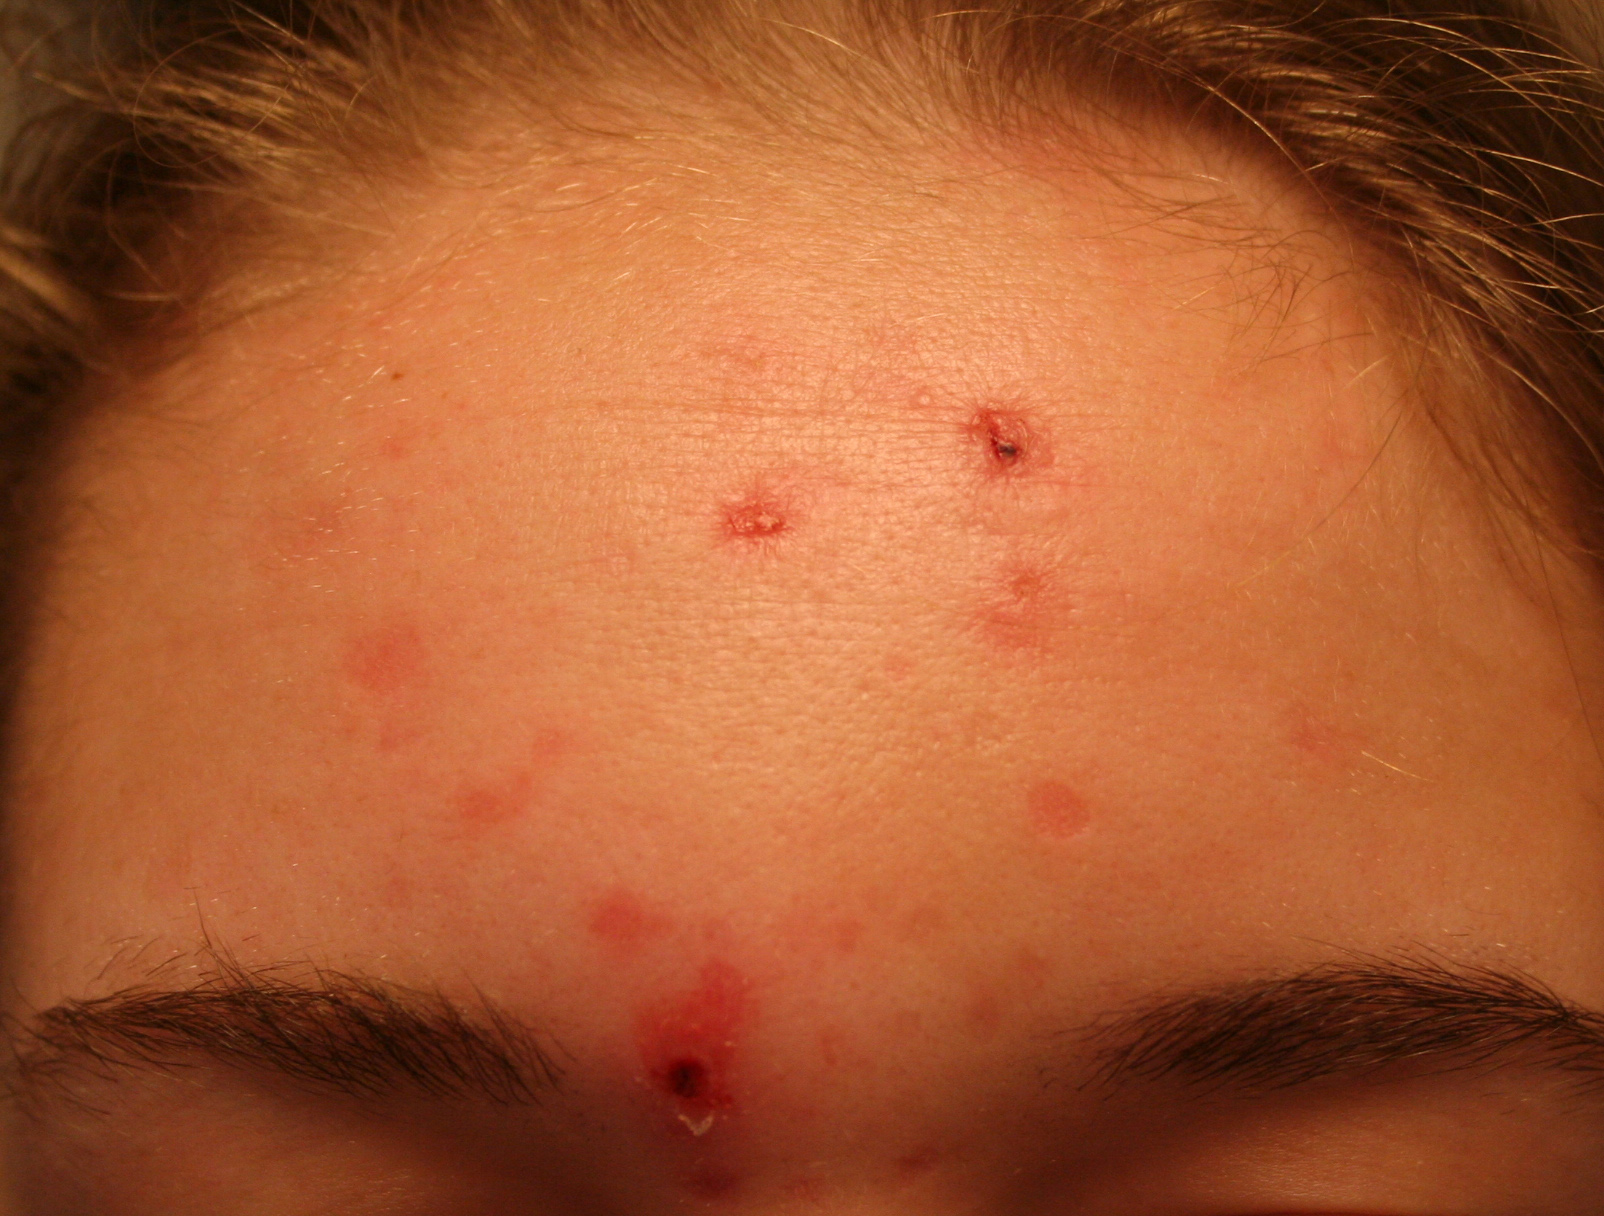jerawat: (292, 341, 1156, 1134)
